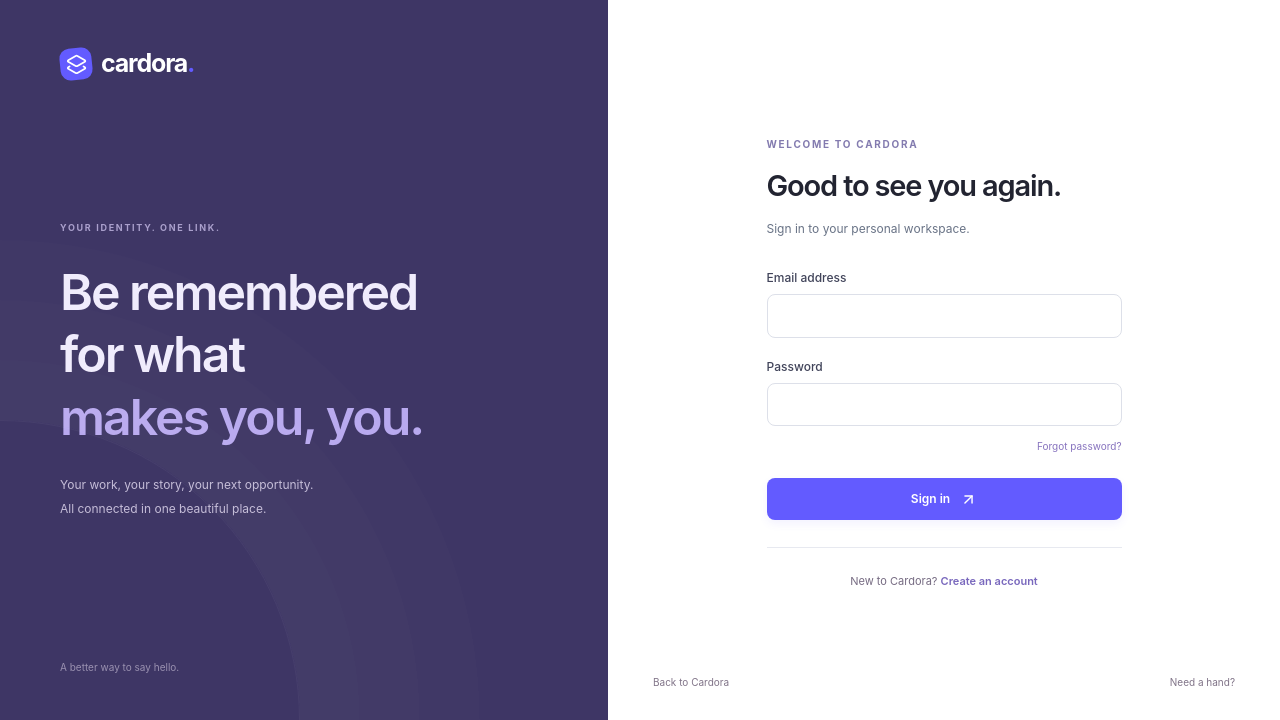
it: Authentication › shows server errors without losing the login form
Type "hello@example.com" into the field labelled "Email address" at (944,316), box [766,294,1122,338]
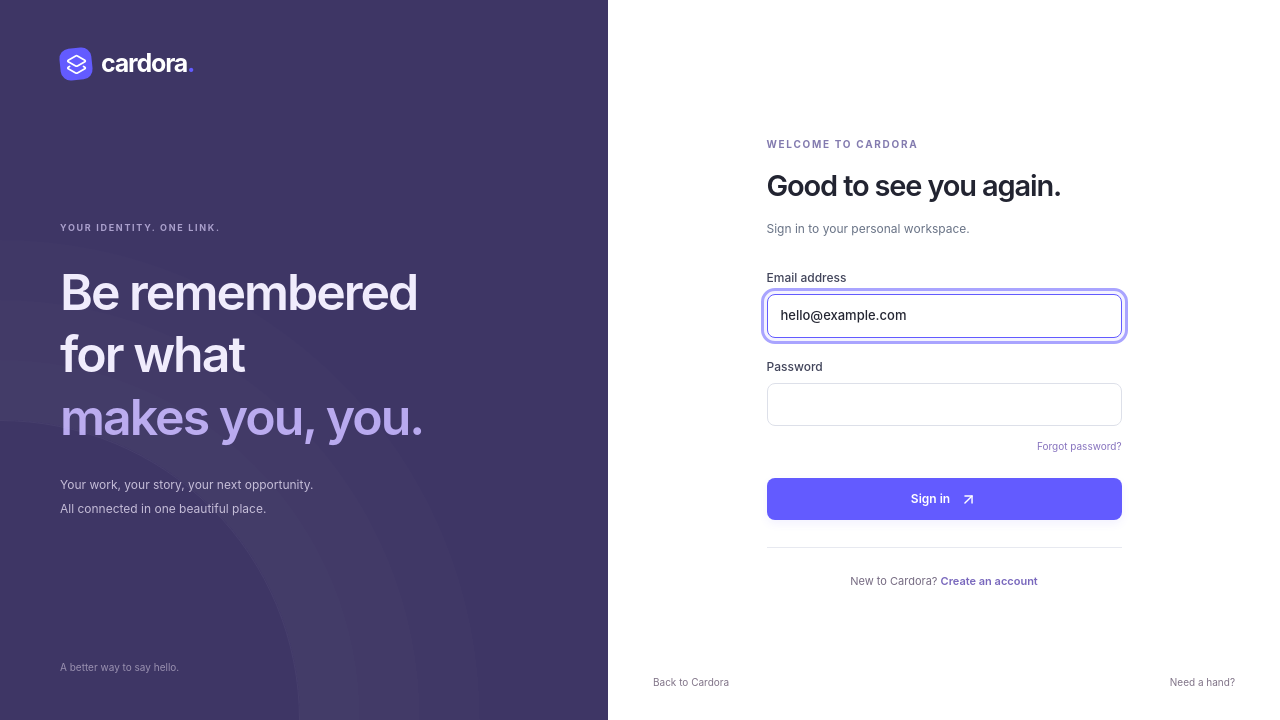
Type "WrongPassword1" into the password field labelled "Password" at (944,405), box [766,383,1122,426]
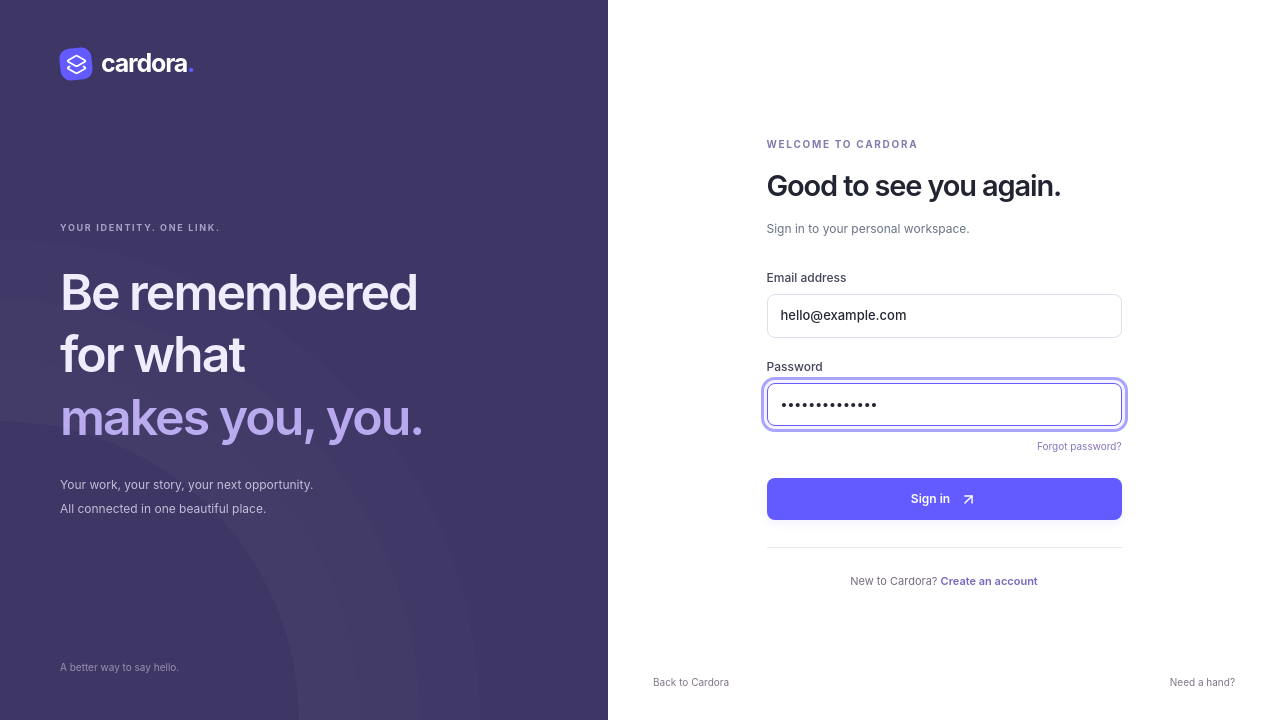
Click the button "Sign in" at (944,499), box [766,478,1122,520]
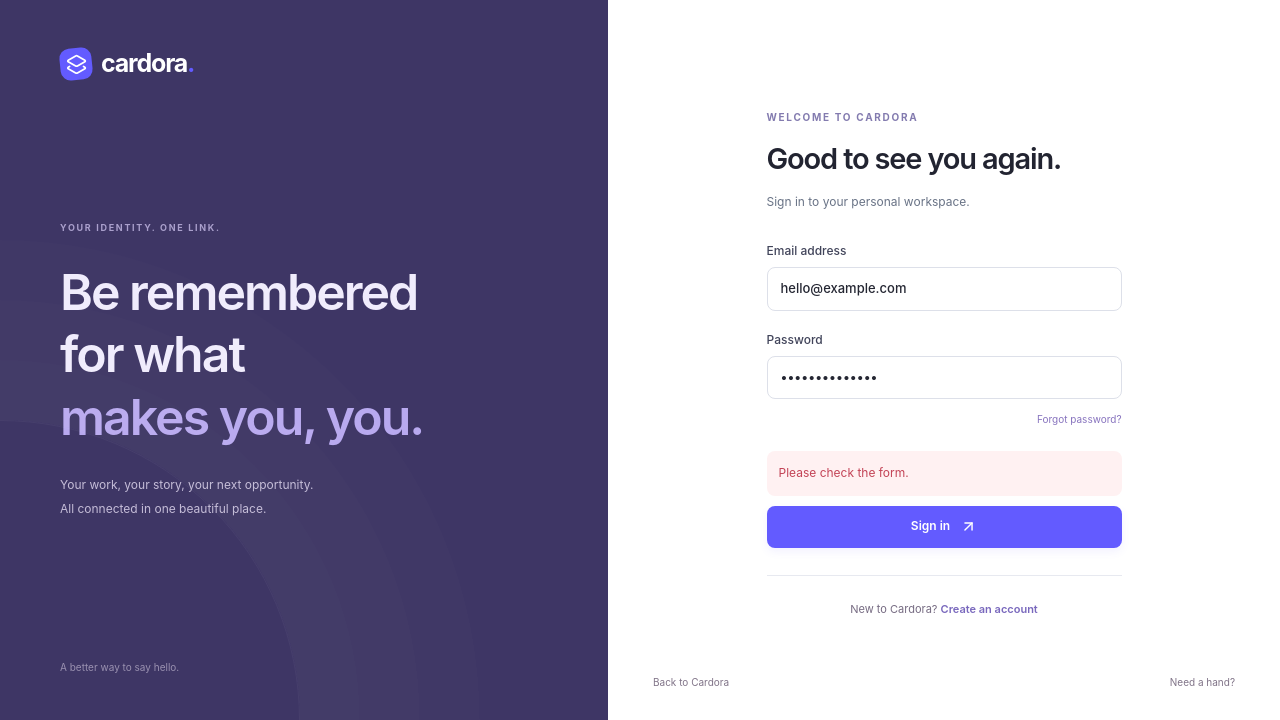
Expected: the message reads "Please check the form.", [778,465,909,480]
